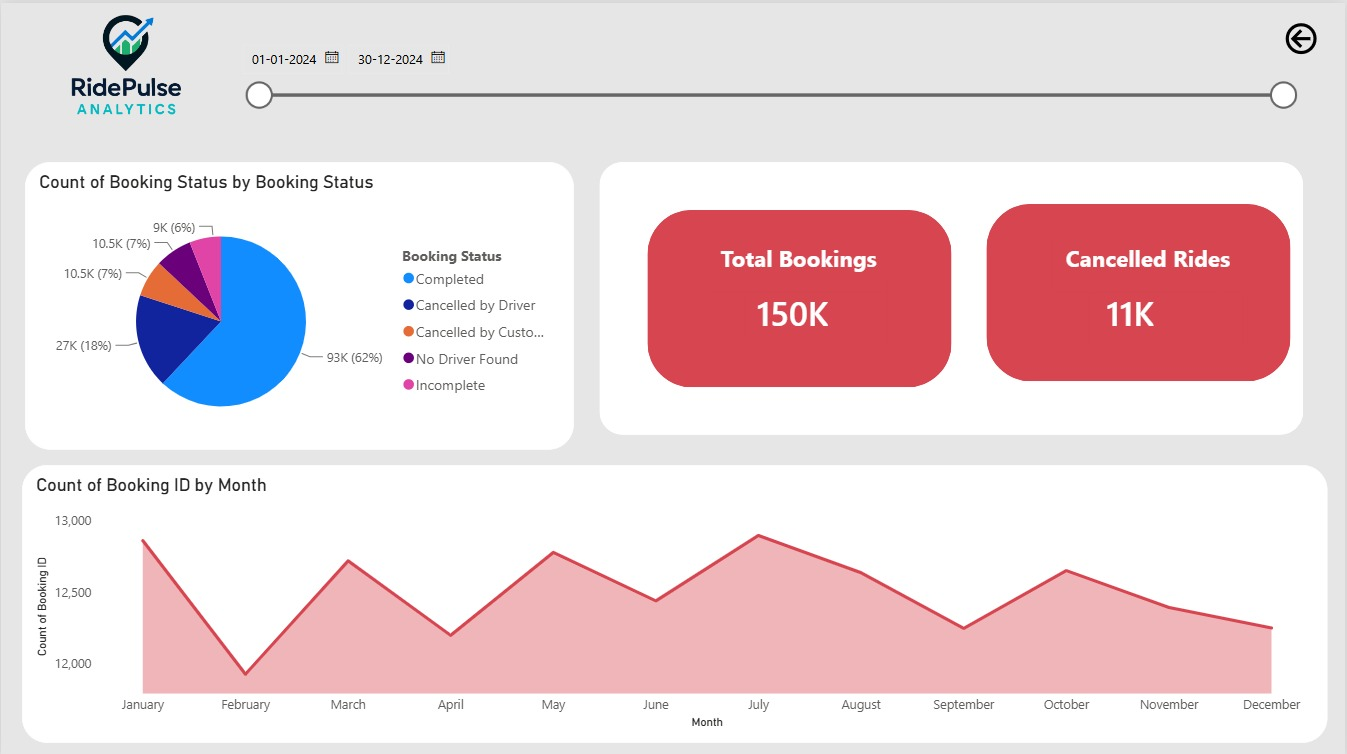

Layout of this report page (visuals, bound fields, positions):
{"tool":"powerbi","page":{"name":"Overall","canvas":[1280,720],"ordinal":1},"visuals":[{"type":"lineChart","fields":{"Category":["rideBookings.Date.Variation.Date Hierarchy.Month"],"Y":["CountNonNull(rideBookings.Booking ID)"]},"box":[19.7,440.6,1243.2,265],"z":0},{"type":"pieChart","fields":{"Category":["rideBookings.Booking Status"],"Y":["CountNonNull(rideBookings.Booking Status)"]},"box":[22.7,151.4,522.4,274.1],"z":1000},{"type":"image","box":[11.7,11.7,215.6,94.8],"z":3000},{"type":"shape","box":[597.4,189.6,307.8,183.1],"z":4000},{"type":"shape","box":[570.1,151.9,670.1,259.7],"z":5000},{"type":"shape","box":[615.6,197.4,289.6,168.8],"z":6000},{"type":"shape","box":[939,190.9,289.6,168.8],"z":7000},{"type":"cardVisual","fields":{"Data":["CountNonNull(rideBookings.Booking ID)"]},"box":[702.6,258.9,146.9,68.1],"z":8000},{"type":"cardVisual","fields":{"Data":["Sum(rideBookings.Cancelled Rides by Customer)"]},"box":[1035.7,258.9,146.9,68.1],"z":9000},{"type":"textbox","box":[676.8,222.6,165,53],"z":10000},{"type":"textbox","box":[1000.9,222.6,181.7,53],"z":10001},{"type":"slicer","fields":{"Values":["rideBookings.Date"]},"box":[216.5,30.3,1025.1,92.4],"z":10002},{"type":"actionButton","box":[1218,13.6,48.4,39.3],"z":10003}]}

Visuals, with their boxes in screenshot pixels (x1, y1, x2, y2), scaled from the page's 1280x720 canvas onto the 1347x754 screenshot:
lineChart - rideBookings.Date.Variation.Date Hierarchy.Month x CountNonNull(rideBookings.Booking ID): <region>21, 461, 1329, 739</region>
pieChart - rideBookings.Booking Status x CountNonNull(rideBookings.Booking Status): <region>24, 159, 574, 446</region>
image: <region>12, 12, 239, 112</region>
shape: <region>629, 199, 953, 390</region>
shape: <region>600, 159, 1305, 431</region>
shape: <region>648, 207, 953, 383</region>
shape: <region>988, 200, 1293, 377</region>
cardVisual - CountNonNull(rideBookings.Booking ID): <region>739, 271, 894, 342</region>
cardVisual - Sum(rideBookings.Cancelled Rides by Customer): <region>1090, 271, 1245, 342</region>
textbox: <region>712, 233, 886, 289</region>
textbox: <region>1053, 233, 1245, 289</region>
slicer - rideBookings.Date: <region>228, 32, 1307, 128</region>
actionButton: <region>1282, 14, 1333, 55</region>
